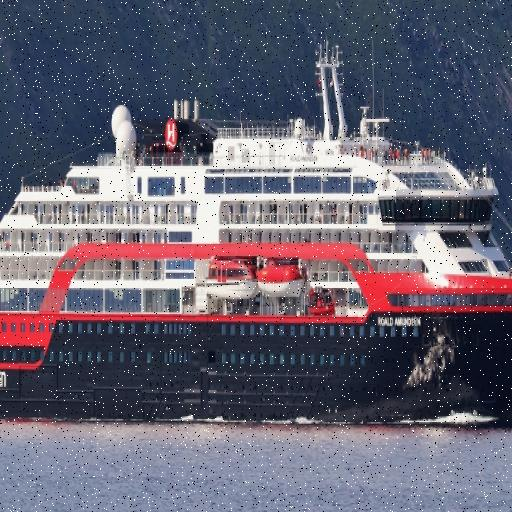cruises: (1, 34, 512, 440)
